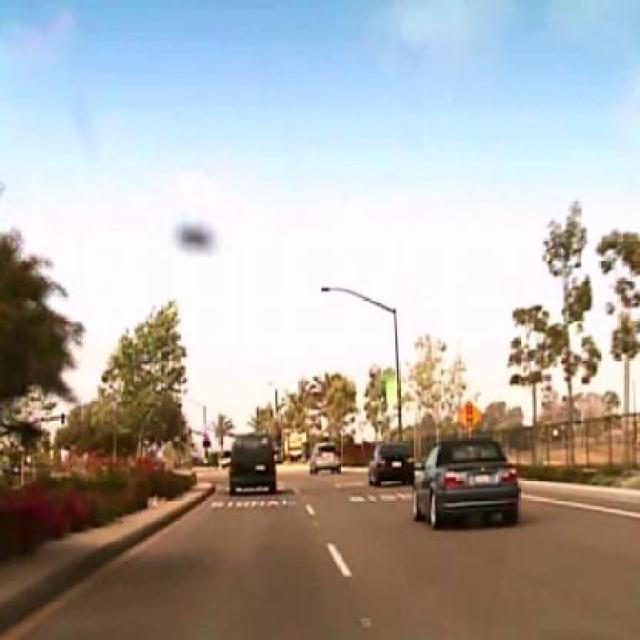signalAhead: (457, 397, 481, 433)
